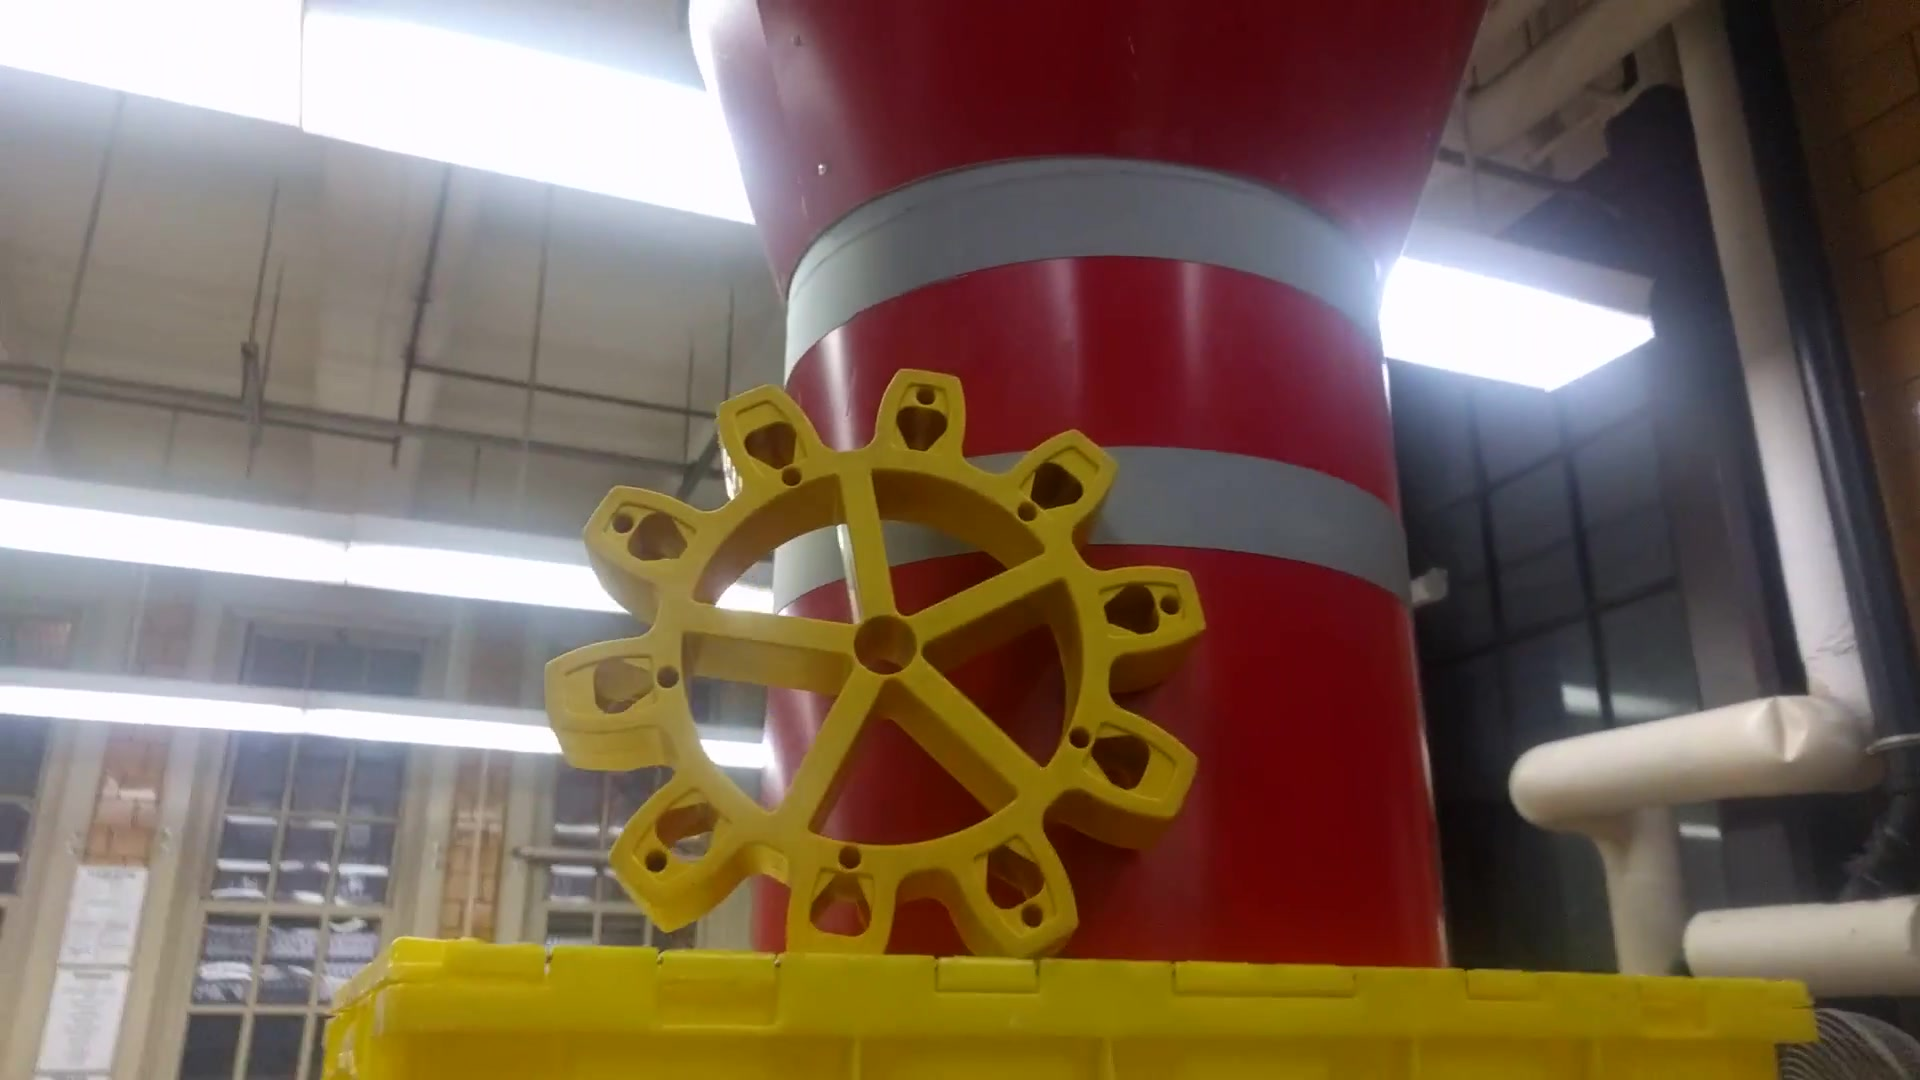gear: (541, 367, 1216, 972)
